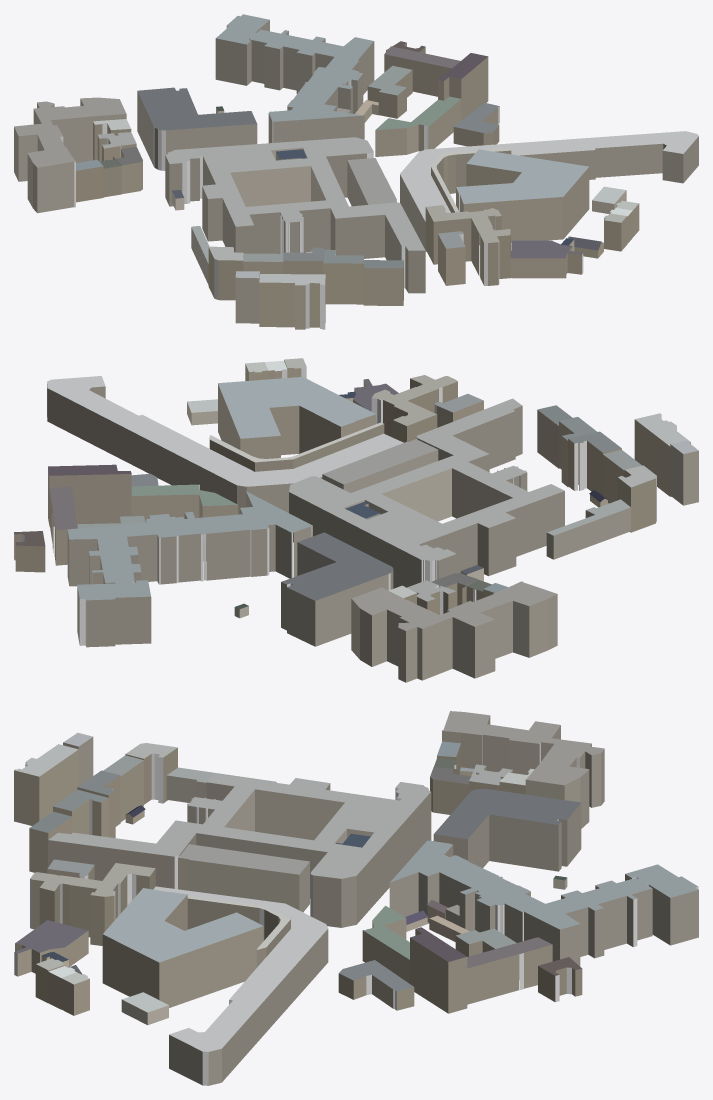
3 views of the same model, one above another, from view 1: azimuth 30°, elevation 25°; view 2: azimuth 150°, elevation 25°; view 3: azimuth 270°, elevation 25° (orthographic). The views are drawn at different scales.
Parts seen in each view (by area): view 1: tuile; view 2: tuile; view 3: tuile.
Boxes of the visible parts, x1,y1,x2,y2 form: tuile: (14, 14, 698, 329); tuile: (14, 358, 698, 682); tuile: (14, 711, 698, 1085).
Size of the model in its own units: 351 by 34.76 by 326.
